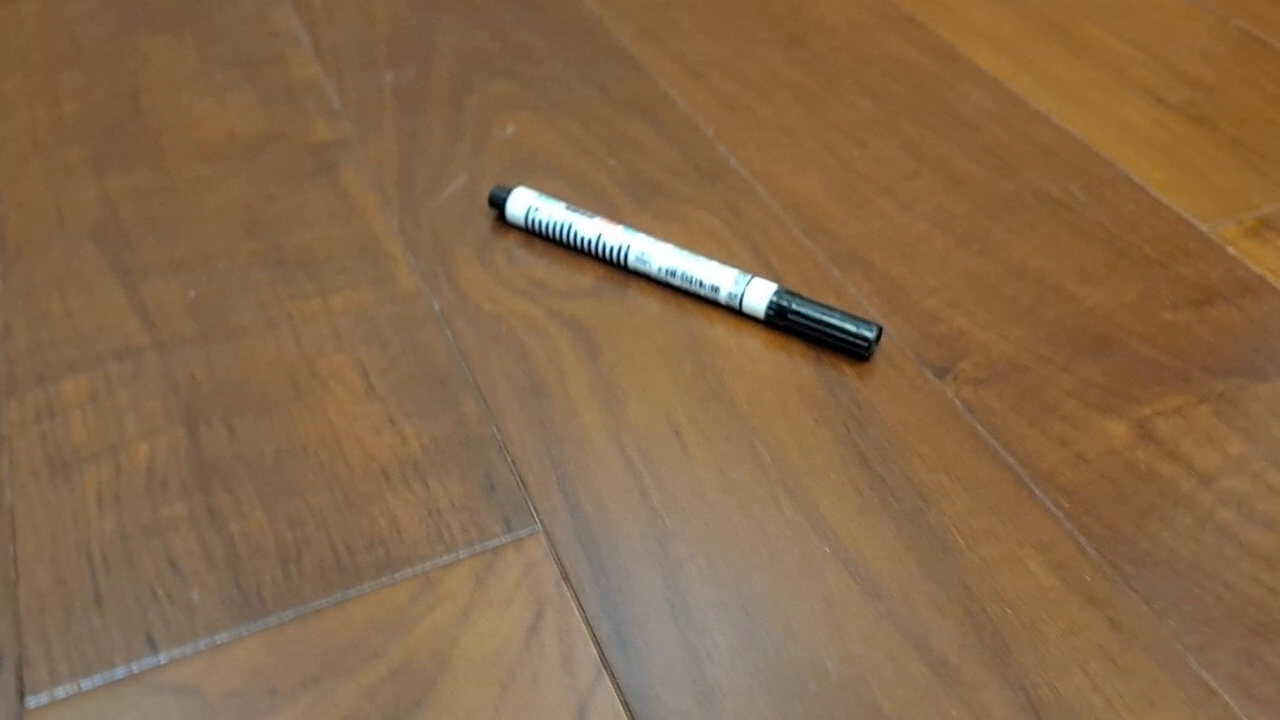pen: (485, 182, 884, 365)
